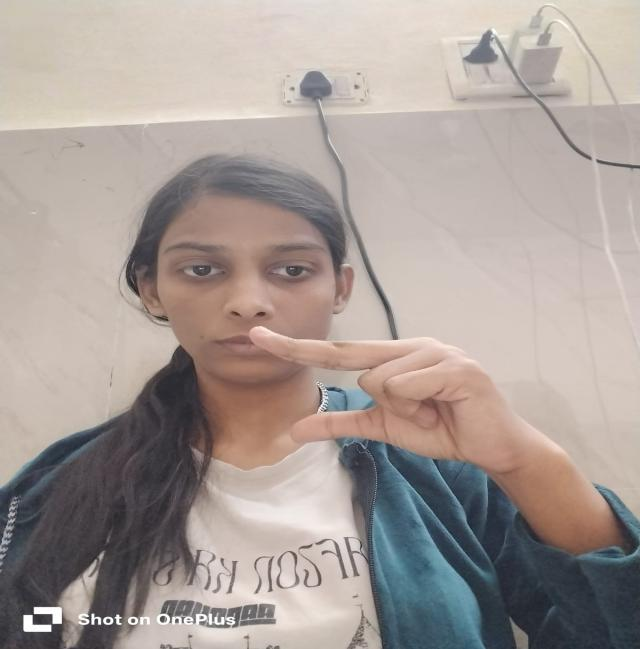No: (232, 303, 530, 484)
